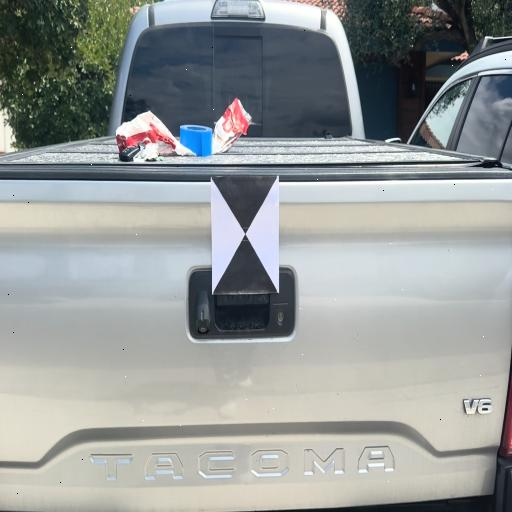target: (211, 176, 279, 291)
